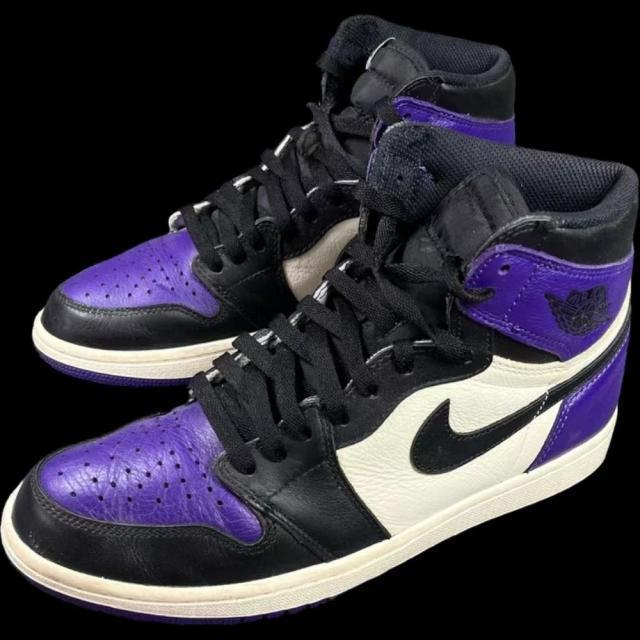nike original jordan 1: (0, 118, 640, 640), (31, 12, 518, 390)
